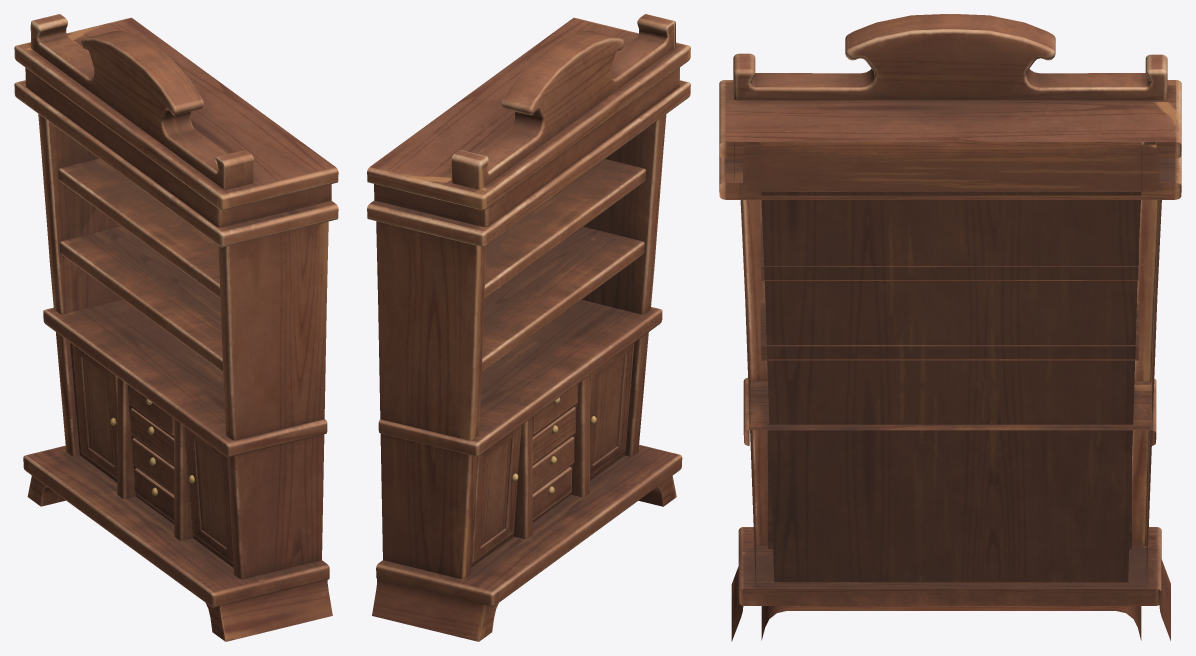
File: SM_Shelf_03.fbx
The picture shows the model from 3 angles, left to right: view 1: azimuth 30°, elevation 25°; view 2: azimuth 150°, elevation 25°; view 3: azimuth 270°, elevation 25°; orthographic projection. The views are drawn at different scales.
Parts seen in each view (by area): view 1: SM_Shelf_03_LOD0; view 2: SM_Shelf_03_LOD0; view 3: SM_Shelf_03_LOD0.
Boxes of the visible parts, x1,y1,x2,y2 form: SM_Shelf_03_LOD0: (14,14,338,641); SM_Shelf_03_LOD0: (367,14,690,641); SM_Shelf_03_LOD0: (719,14,1181,641).
Size of the model in its own units: 57.67 by 178 by 242.
1 material, 1 textured.
